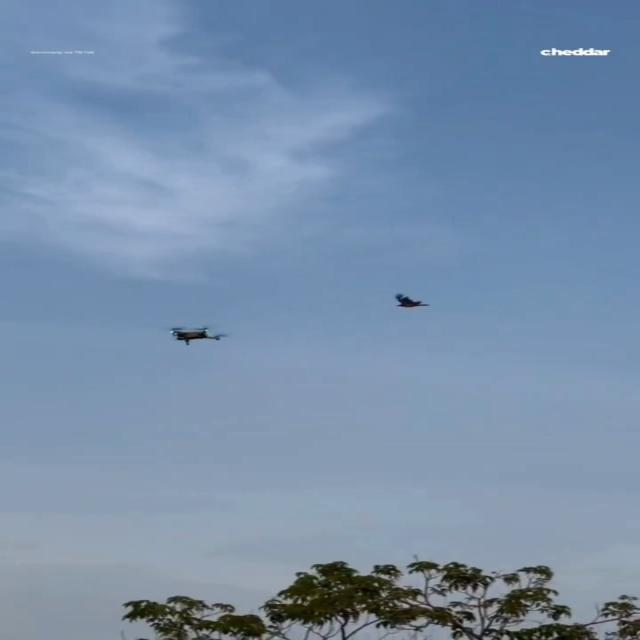bird: (394, 292, 428, 308)
drone: (169, 325, 225, 345)
